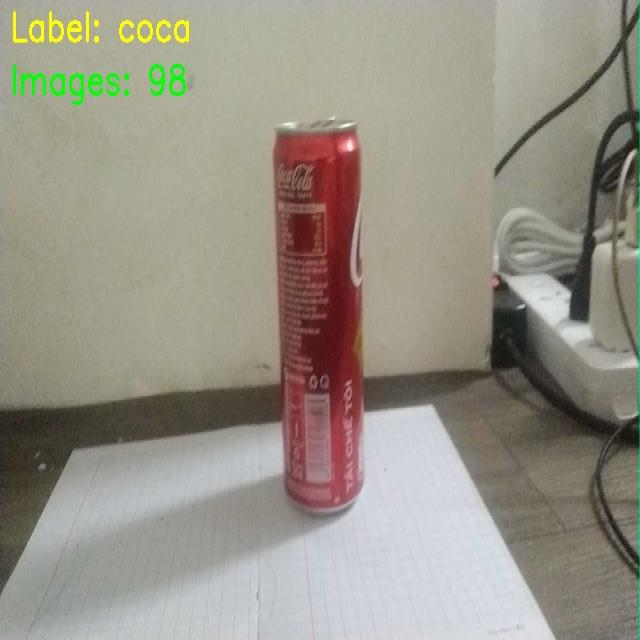Coca: (244, 90, 394, 516)
